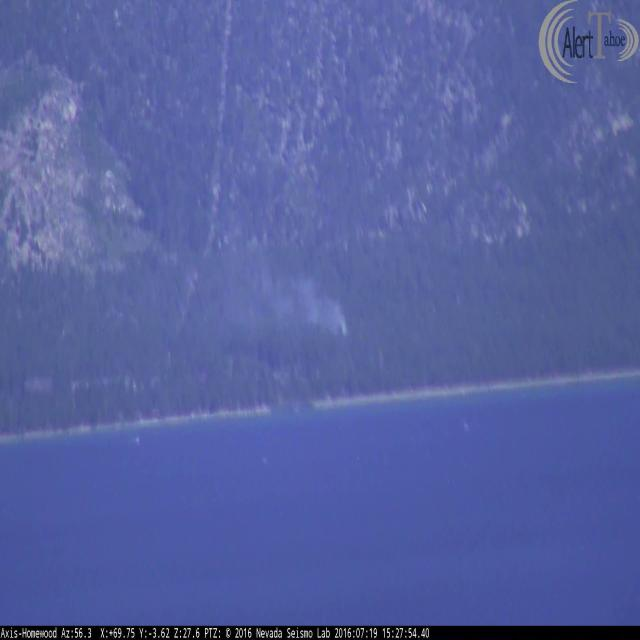smoke: (224, 230, 352, 352)
